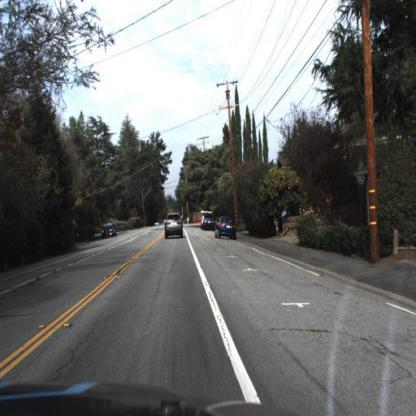car: (162, 208, 189, 244), (215, 214, 241, 244), (97, 218, 118, 245), (99, 219, 119, 243), (203, 214, 217, 232)
